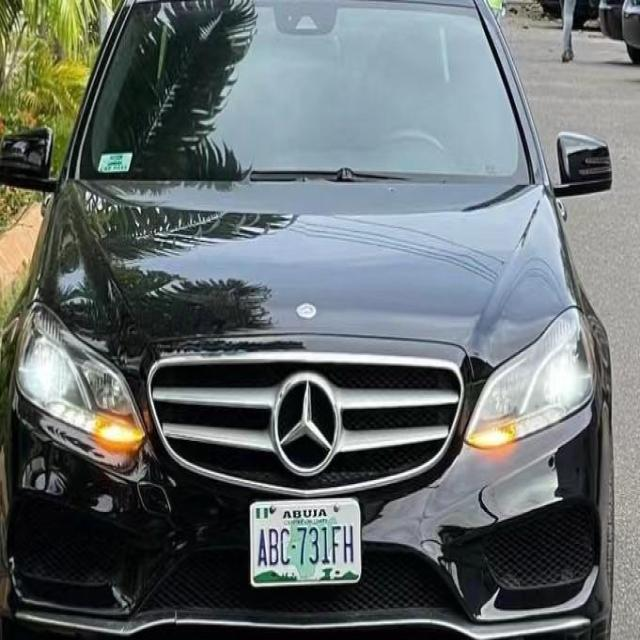Nigerian License Plate - vdataset benjamin-daria: (248, 494, 365, 591)
